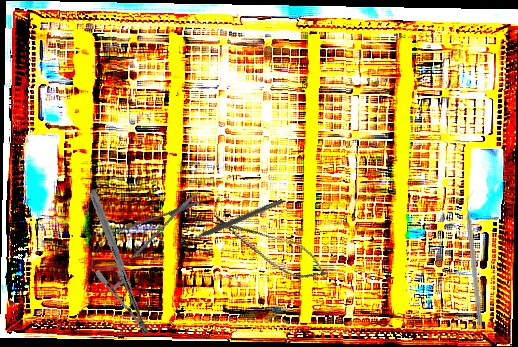Chopper: (463, 189, 490, 327)
Fixation Ring: (178, 193, 286, 254)
Micro Scissor: (80, 181, 210, 283), (203, 204, 336, 291)
Needle Holder: (41, 188, 198, 338)
